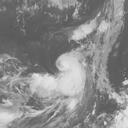cyclone: (28, 48, 86, 99)
